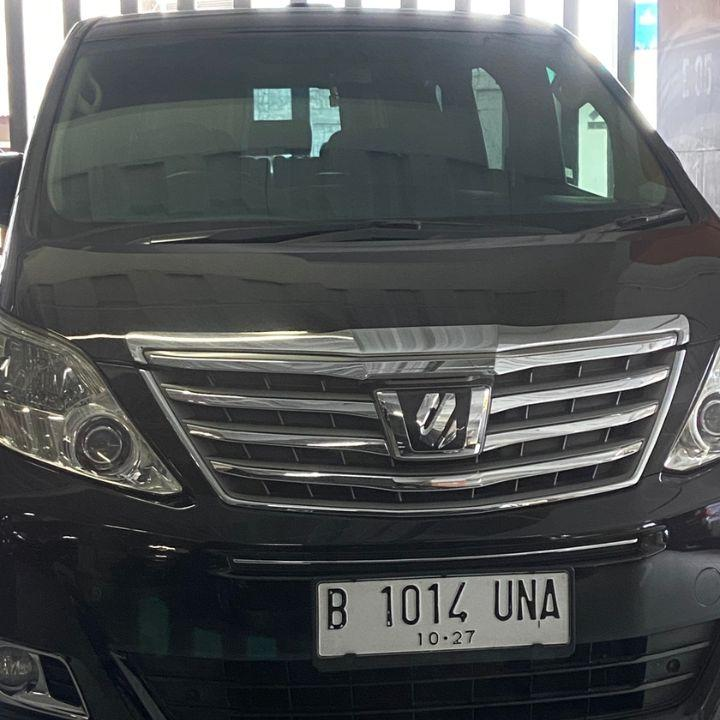plat: (318, 571, 570, 658)
